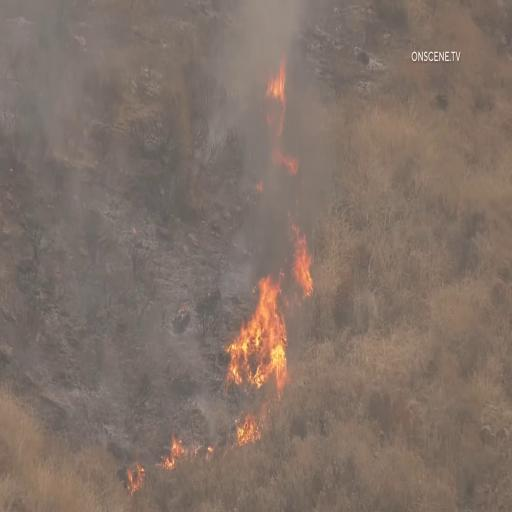fire: (222, 248, 296, 422), (260, 50, 302, 178), (282, 230, 316, 306), (157, 419, 192, 473), (122, 460, 149, 499)
